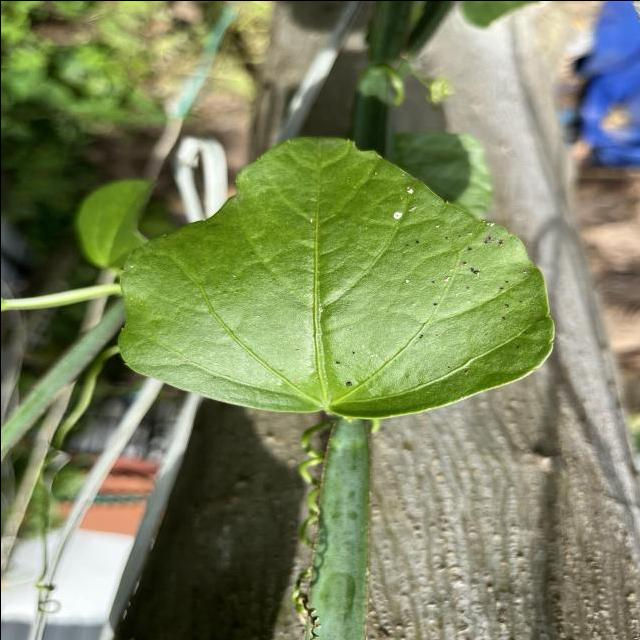Cissus quadrangularis: (112, 134, 558, 420)
